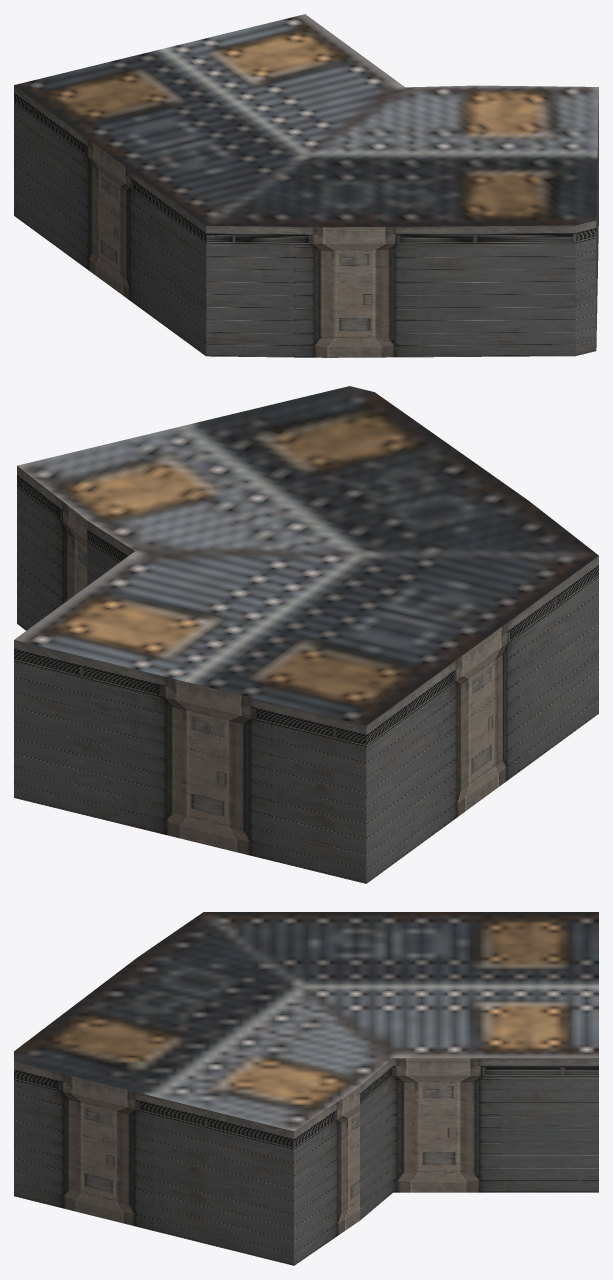
File: hangar_heavy_a_05.glb
The picture shows the model from 3 angles, top to bottom: view 1: azimuth 30°, elevation 25°; view 2: azimuth 150°, elevation 25°; view 3: azimuth 270°, elevation 25°; orthographic projection. The views are drawn at different scales.
Visible parts, largest first — view 1: buildings/saxarba/hangar_heavy/hangar_heavy_a_05; view 2: buildings/saxarba/hangar_heavy/hangar_heavy_a_05; view 3: buildings/saxarba/hangar_heavy/hangar_heavy_a_05.
Part boxes in pixels (<box>): buildings/saxarba/hangar_heavy/hangar_heavy_a_05: <box>14,14,598,357</box>; buildings/saxarba/hangar_heavy/hangar_heavy_a_05: <box>14,386,598,883</box>; buildings/saxarba/hangar_heavy/hangar_heavy_a_05: <box>14,912,598,1265</box>.
Bounding box in the file's own units: 63 × 18 × 71.
